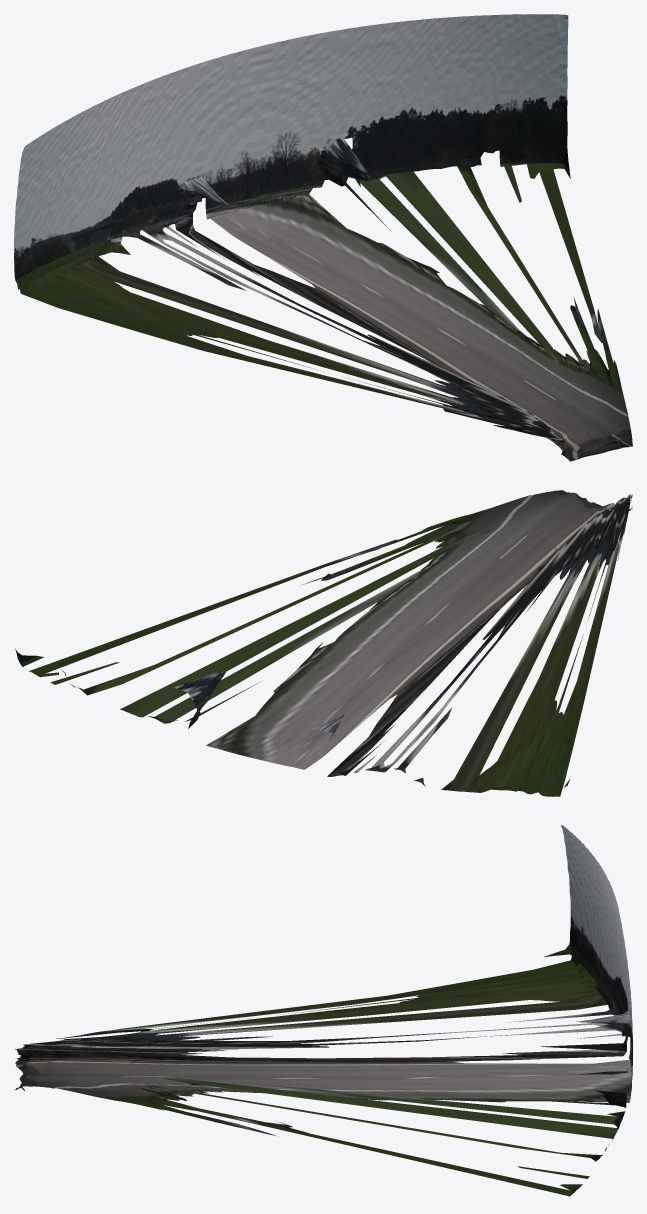
3 renders of one model, top to bottom at view 1: azimuth 30°, elevation 25°; view 2: azimuth 150°, elevation 25°; view 3: azimuth 270°, elevation 25°, orthographic. The views are drawn at different scales.
Visible parts, largest first — view 1: defaultobject; view 2: defaultobject; view 3: defaultobject.
Part boxes in pixels (x1,y1,x2,y2): defaultobject: (14,14,632,461); defaultobject: (15,490,632,796); defaultobject: (15,825,632,1197).
Size of the model in its own units: 41.14 by 12.06 by 44.63.
1 material, 1 textured.
